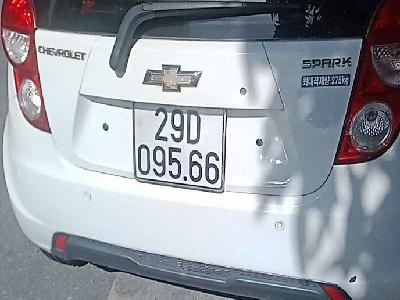car: (131, 104, 226, 194)
